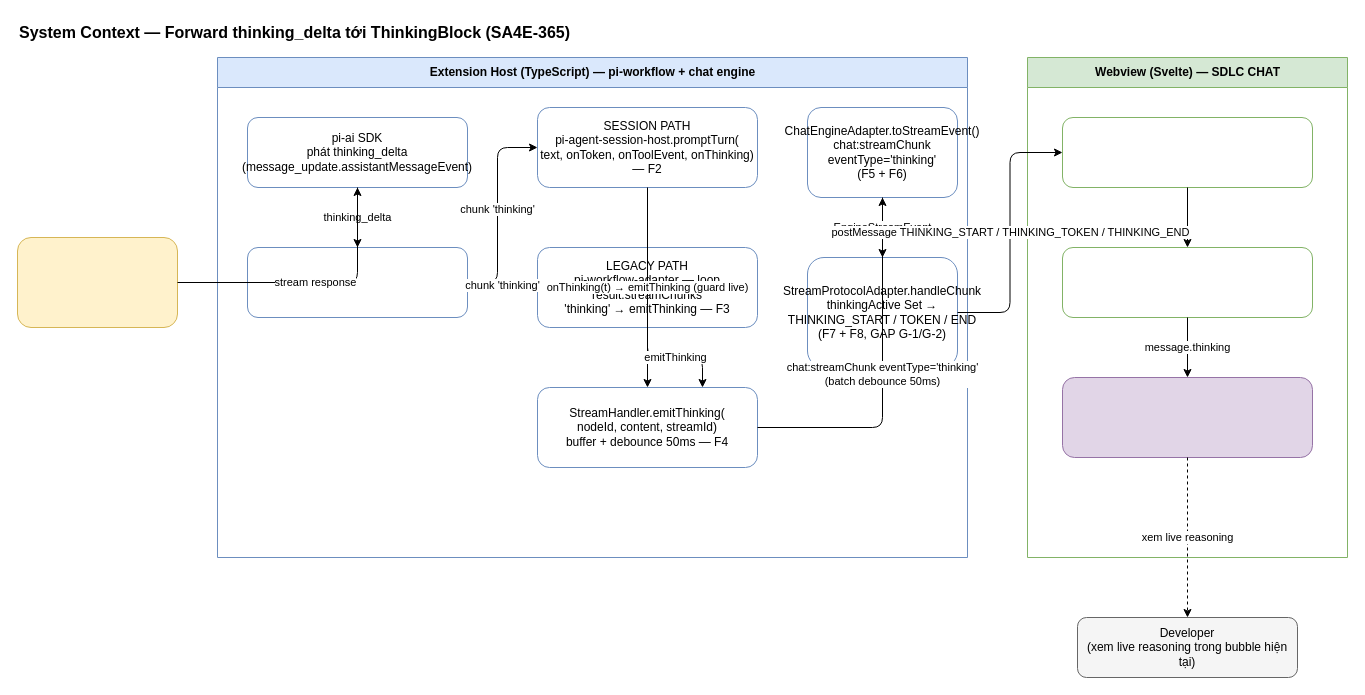
Image size: 1365x695. Some labels were removed from this diagram. The centre of each missing label's shape, as x and y in pixels:
"chatStore startThinking / appendThinkingToken / endThinking" goes at point (1187, 282).
"messageListener.ts THINKING_START / TOKEN / END handlers" goes at point (1187, 152).
"Model Gateway (OpenAI-compatible) reasoning_content / reasoning / reasoning_text" goes at point (97, 282).
"pi-event-mapper mapAgentEvent() → chunk {type:'thinking'} (F1)" goes at point (357, 282).
"ThinkingBlock.svelte trong ChatMessage.svelte ({#if message.thinking})" goes at point (1187, 417).
